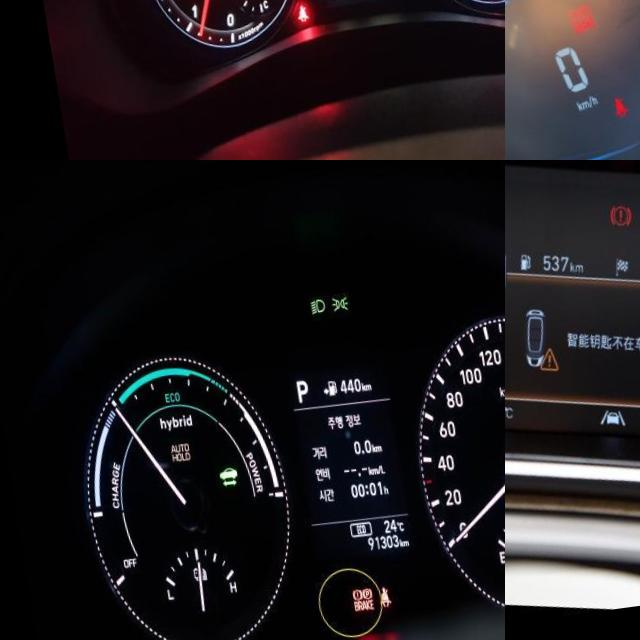Central Warning lamp: (523, 352, 548, 380)
LaneCenteringOff: (580, 415, 612, 439)
Low beam: (302, 306, 318, 324)
SideLamp: (322, 304, 342, 323)
